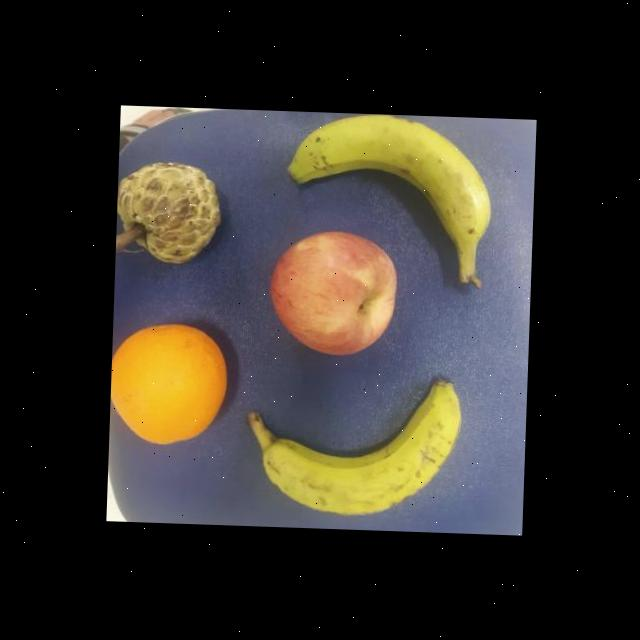Sakya fruit: (114, 153, 224, 267)
apple: (263, 227, 400, 356)
banana: (252, 356, 464, 526), (280, 113, 497, 235)
orange: (108, 317, 230, 448)
